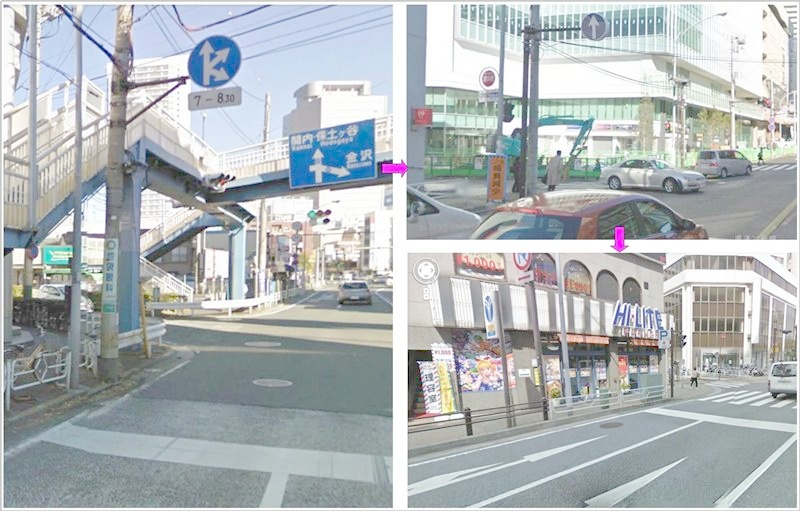Direction_sign: (180, 32, 257, 104), (584, 17, 613, 50)
